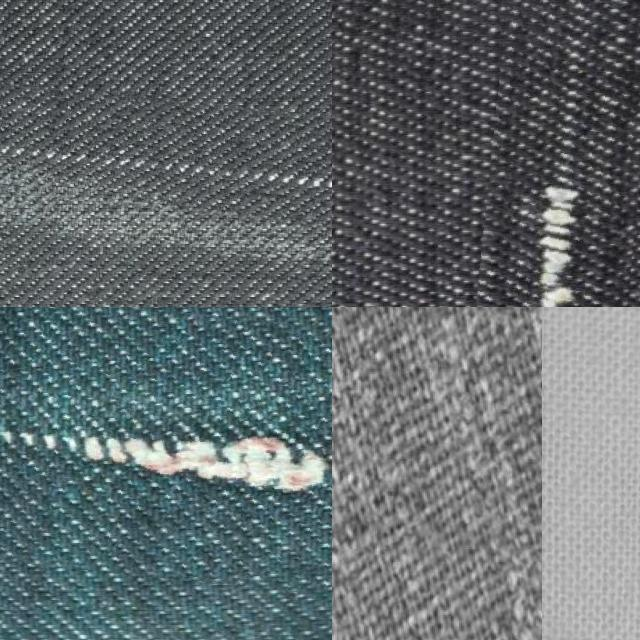Thread_other: (0, 307, 332, 595), (468, 0, 640, 307), (0, 89, 332, 232)
